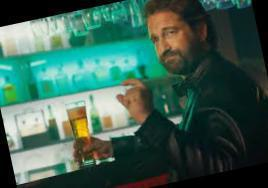Drunk: (145, 17, 195, 73)
